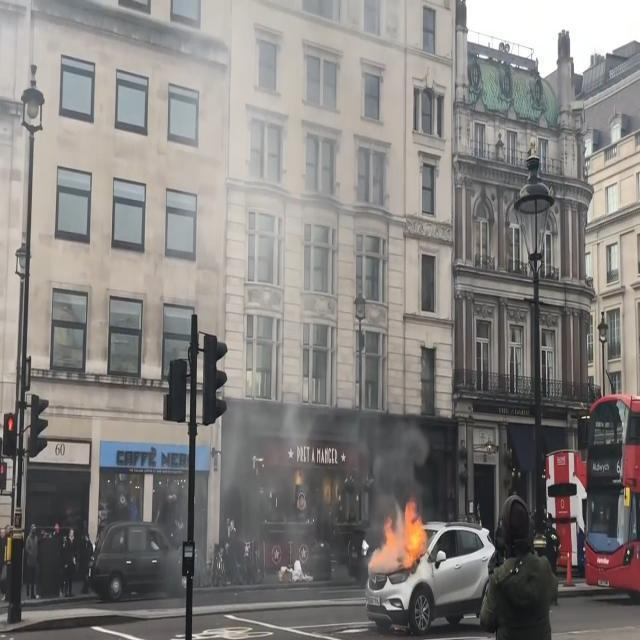fire: (362, 498, 428, 572)
